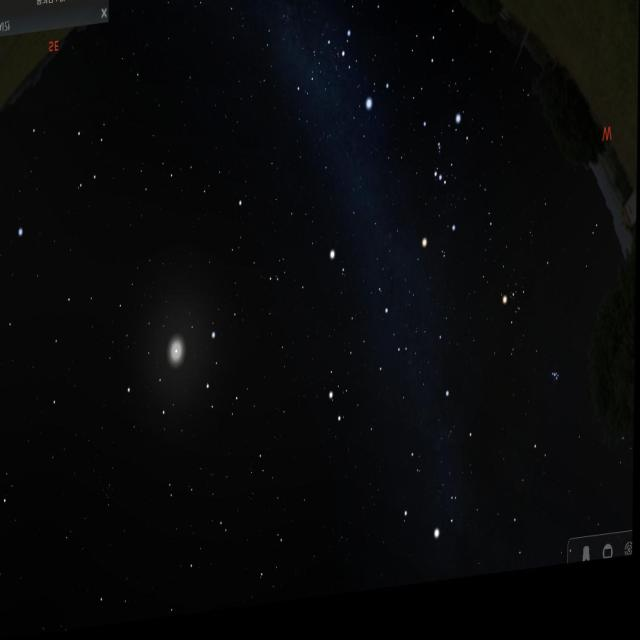canis_major: (338, 36, 396, 120)
canis_minor: (326, 250, 354, 294)
gemini: (312, 298, 418, 456)
leo: (124, 307, 232, 445)
moon: (156, 326, 198, 391)
orion: (413, 114, 472, 269)
pleiades: (547, 372, 566, 403)
taurus: (488, 271, 570, 423)
